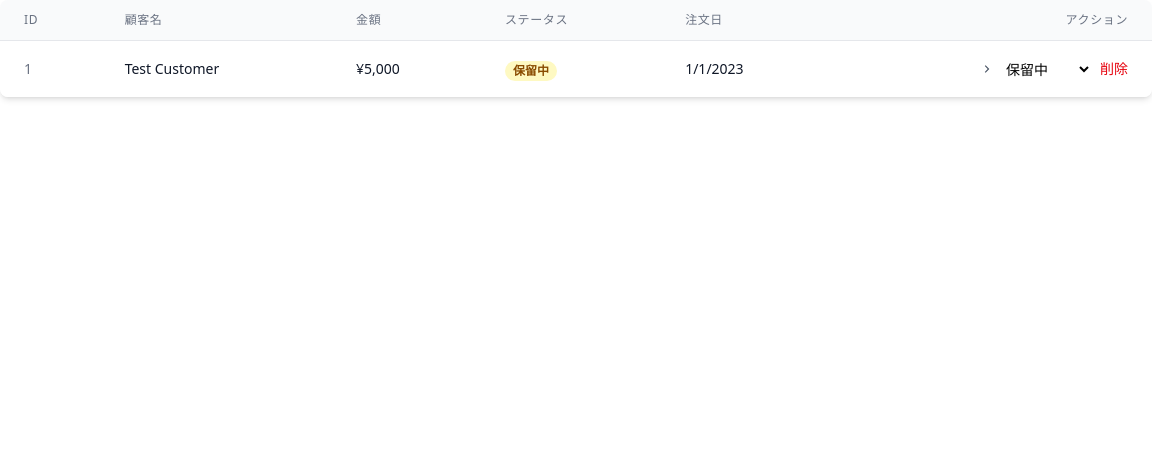
OrderList Component › should toggle order details when expand button is clicked
Expected: the text "注文詳細" is not shown
Click the 1st button at (987, 69), box [980,62,994,76]
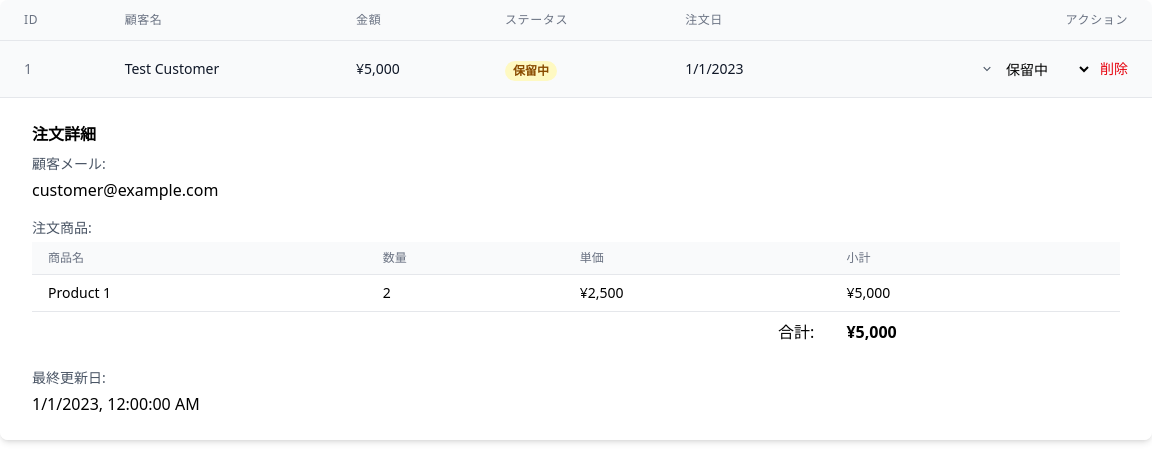
Expected: the heading "注文詳細" is shown, [32,123,96,145]
Expected: the text "顧客メール:" is shown, [32,154,106,173]
Expected: the text "customer@example.com" is shown, [32,179,218,201]
Click the 1st button at (987, 69), box [980,62,994,76]
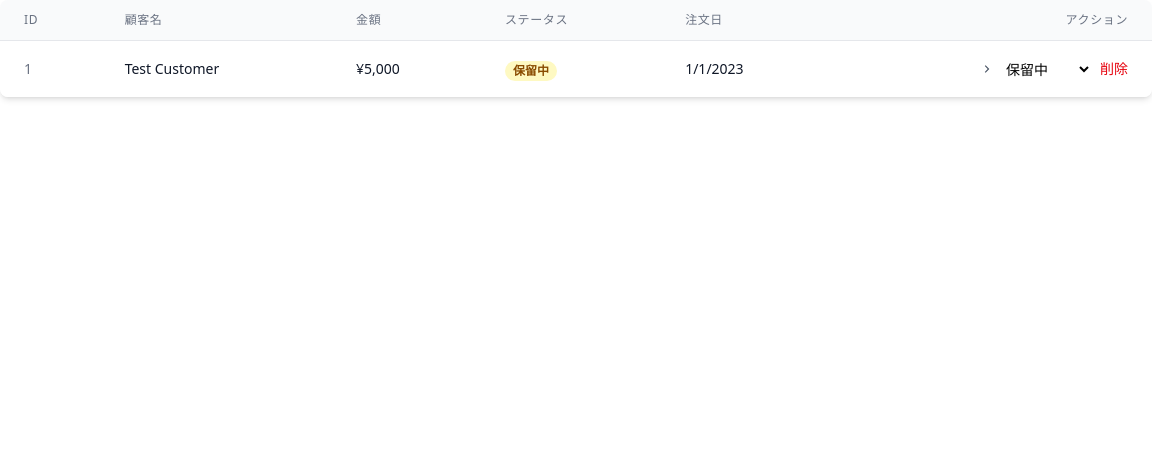
Expected: the heading "注文詳細" is gone
